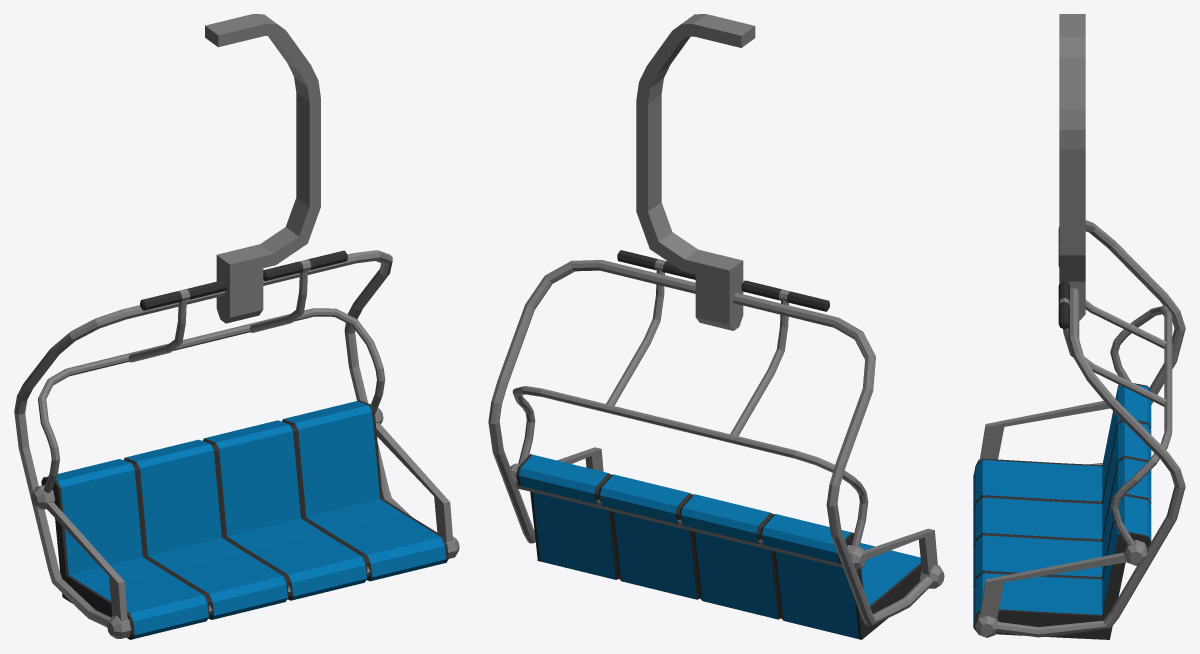
File: chair1.fbx
The picture shows the model from 3 angles, left to right: view 1: azimuth 30°, elevation 25°; view 2: azimuth 150°, elevation 25°; view 3: azimuth 270°, elevation 25°; orthographic projection. The views are drawn at different scales.
Visible parts, largest first — view 1: Chair.001, AttachPoint; view 2: Chair.001, AttachPoint; view 3: Chair.001, AttachPoint.
Boxes of the visible parts, box(x1,y1,x2,y2) form: Chair.001: box(14, 14, 459, 639); AttachPoint: box(205, 14, 265, 47); Chair.001: box(488, 14, 944, 639); AttachPoint: box(692, 14, 755, 47); Chair.001: box(973, 36, 1185, 639); AttachPoint: box(1059, 14, 1085, 36).
Size of the model in its own units: 8453 by 12831 by 4605.
